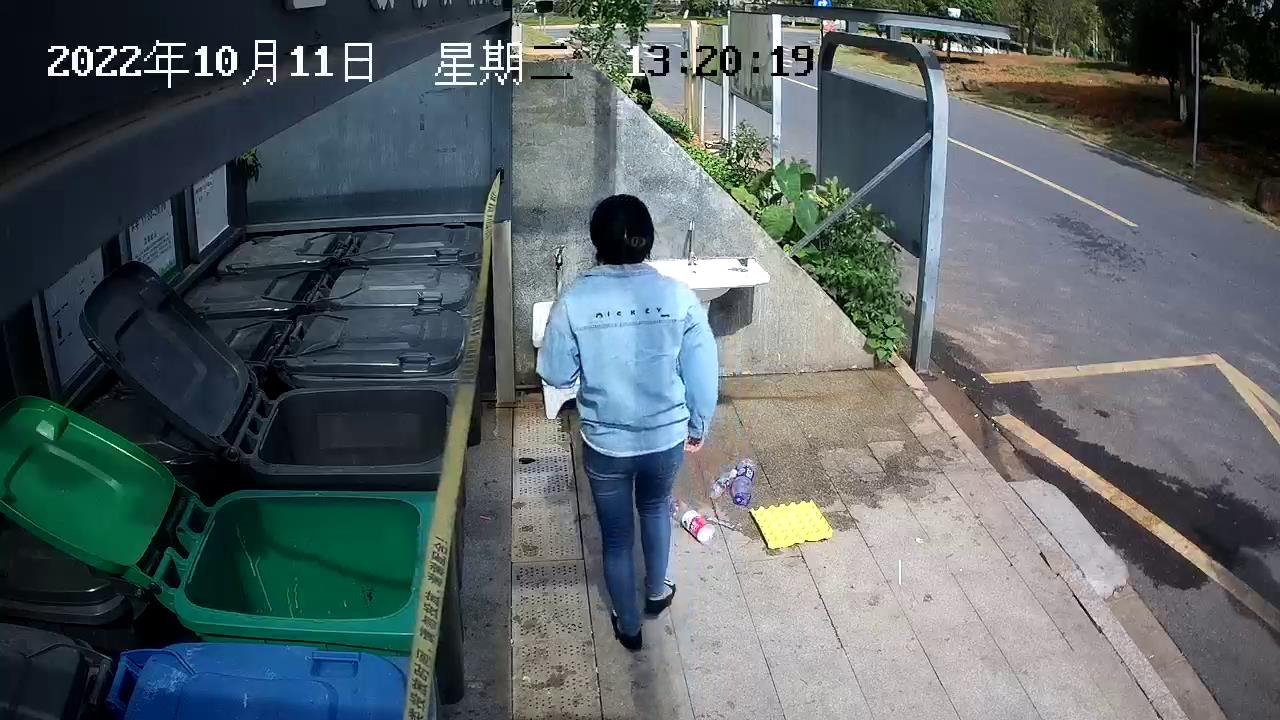suliaozhipin: (665, 491, 719, 547), (727, 452, 759, 511), (703, 459, 739, 501)
worker: (532, 192, 725, 657)
zhizhipin: (746, 497, 839, 553)
